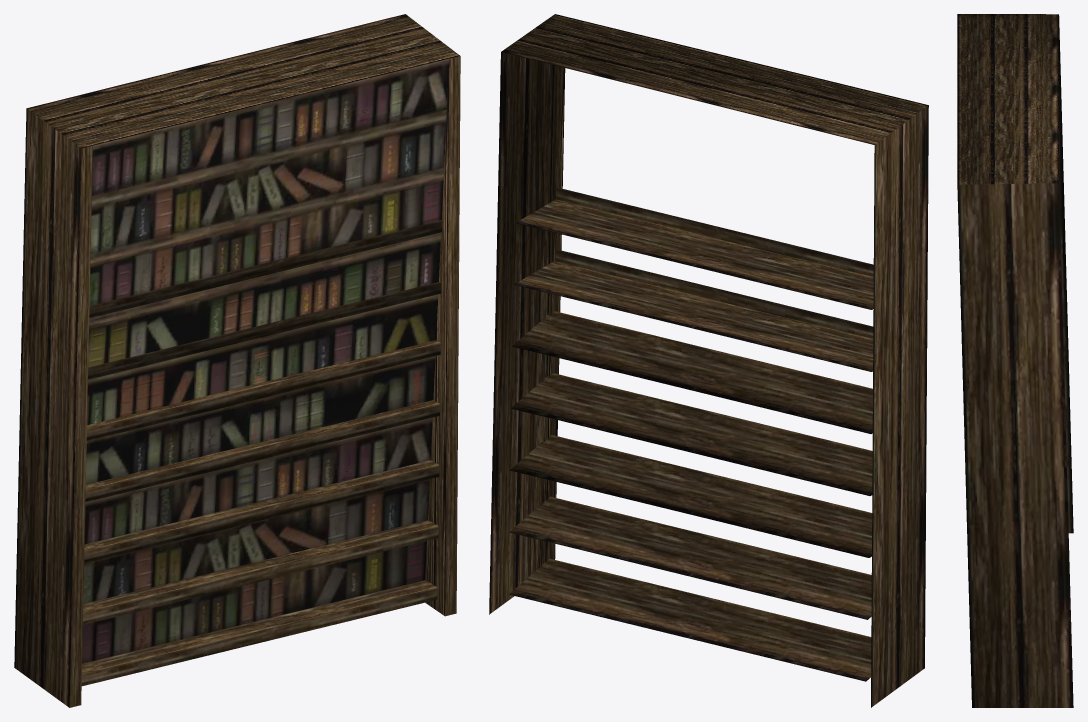
The model's file is DT_BOOKSHELF_V2.glb.
3 renders of one model, left to right at view 1: azimuth 30°, elevation 25°; view 2: azimuth 150°, elevation 25°; view 3: azimuth 270°, elevation 25°, orthographic. The views are drawn at different scales.
Parts seen in each view (by area): view 1: Mesh; view 2: Mesh; view 3: Mesh.
Part boxes in pixels (x1,y1,x2,y2): Mesh: [14, 14, 460, 707]; Mesh: [489, 14, 928, 707]; Mesh: [957, 14, 1073, 707].
Size of the model in its own units: 3.27 by 4.56 by 0.9192.
2 materials, 2 textured.
